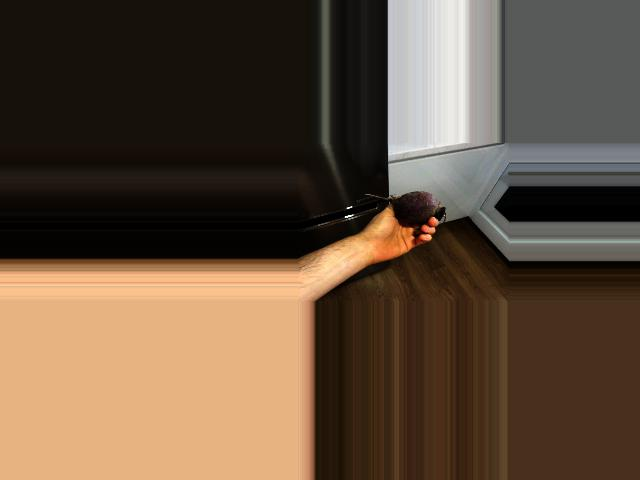beet: (365, 191, 446, 223)
